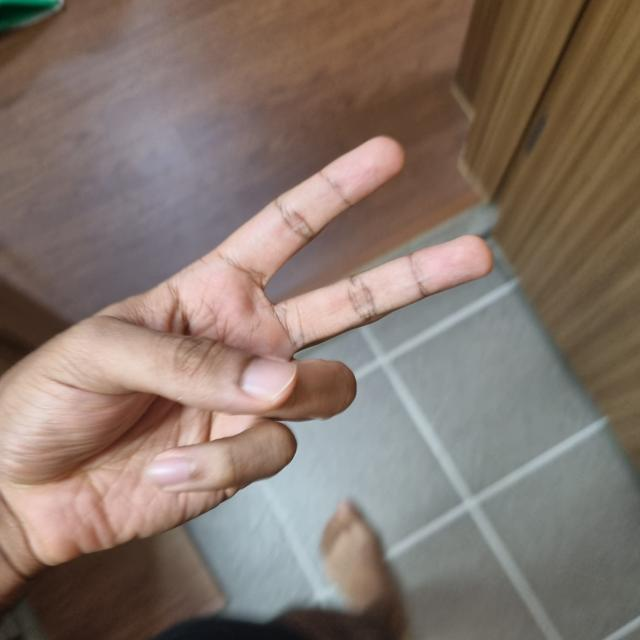Scissors: (0, 140, 491, 640)
